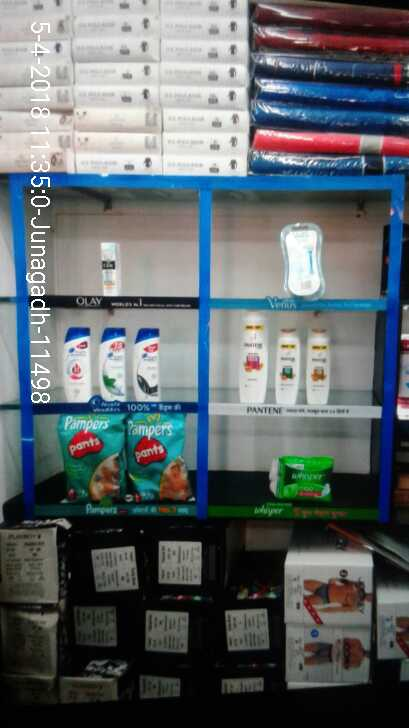venus: (282, 224, 326, 299)
